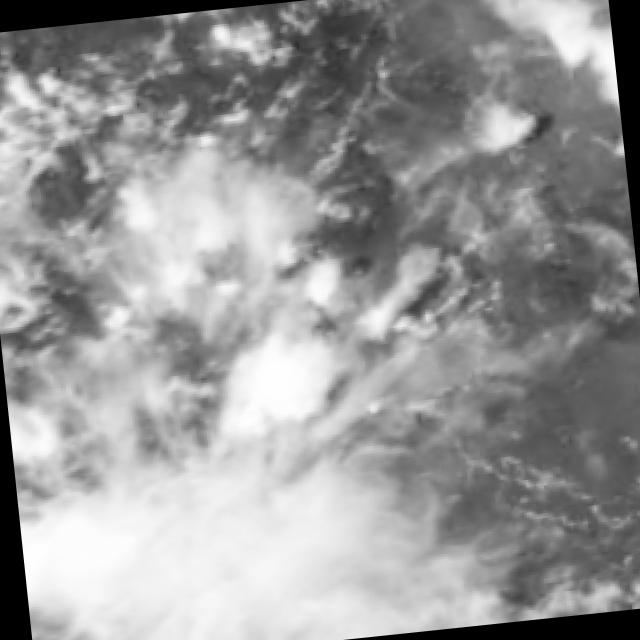CB: (81, 483, 378, 640)
